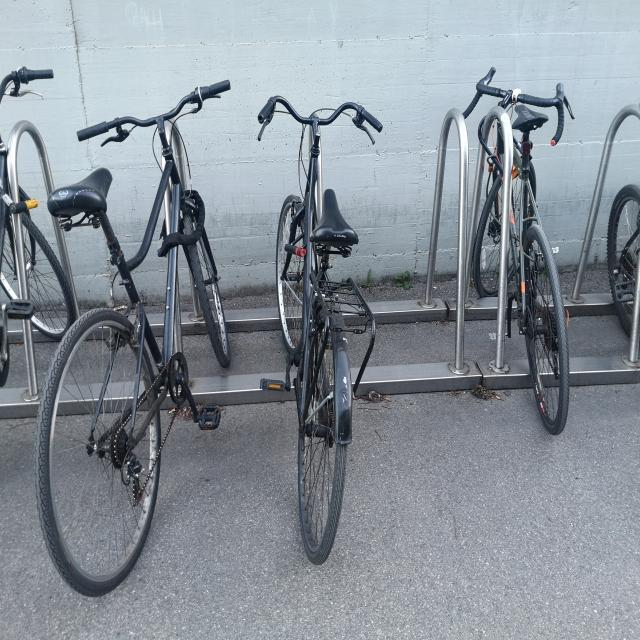Bicycle: (41, 92, 242, 594), (240, 65, 402, 584), (460, 63, 590, 464), (0, 55, 72, 388), (612, 146, 640, 350)
